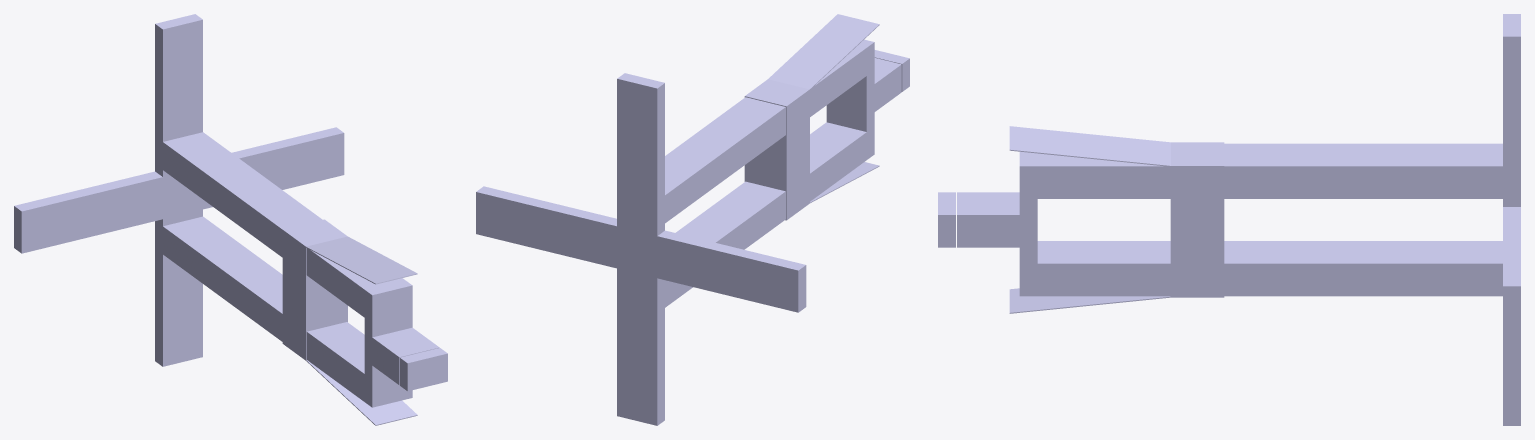
3 renders of one model, left to right at view 1: azimuth 30°, elevation 25°; view 2: azimuth 150°, elevation 25°; view 3: azimuth 270°, elevation 25°, orthographic. The views are drawn at different scales.
Visible parts, largest first — view 1: ARoS; view 2: ARoS; view 3: ARoS.
Boxes of the visible parts, x1,y1,x2,y2 form: ARoS: (14,14,447,425); ARoS: (476,14,909,425); ARoS: (938,14,1520,425).
Bounding box in the file's own units: 1.2 × 1.2 × 1.63.
